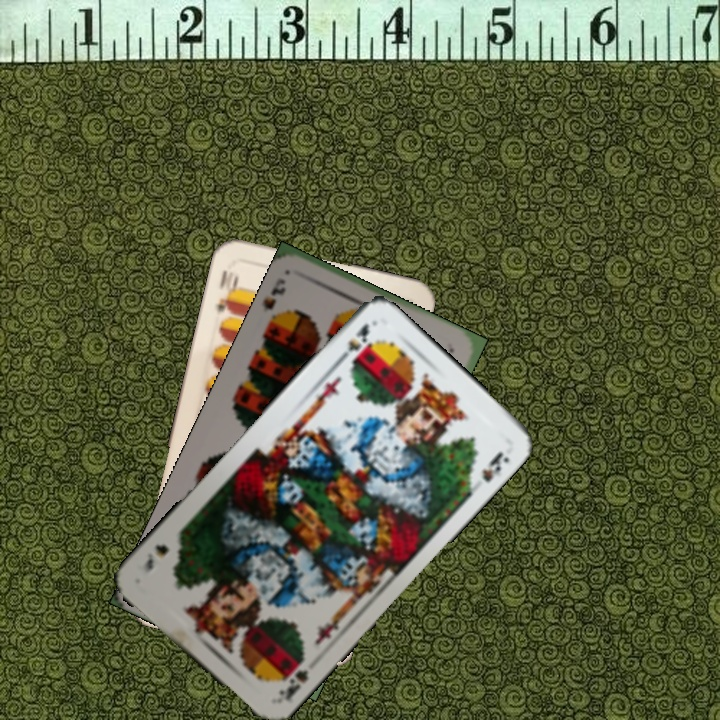E10: (213, 266, 241, 317)
S9: (259, 274, 289, 323)
SK: (274, 651, 311, 705), (333, 319, 372, 368)
